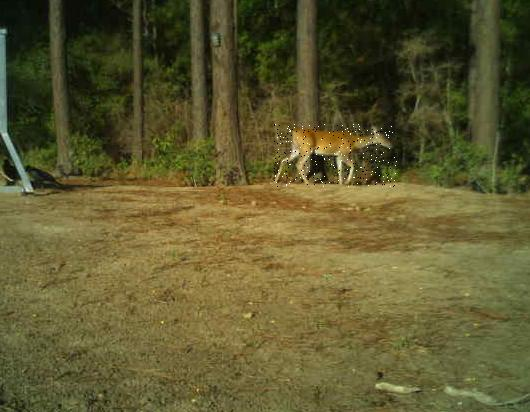Deer: (274, 124, 397, 187)
